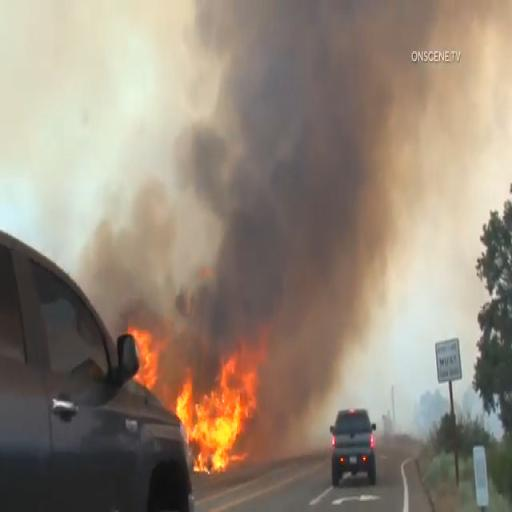fire: (166, 349, 260, 489), (128, 333, 170, 388)
smoke: (186, 22, 402, 277)
